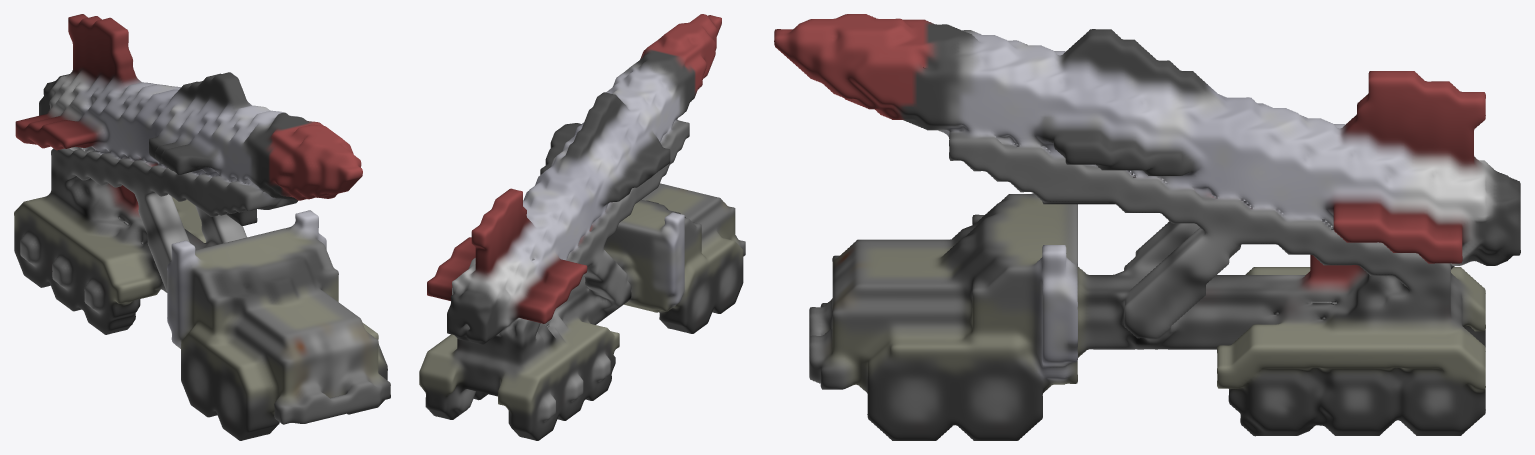
File: v3_rocket_launcher.glb
3 views of the same model, side by side, from view 1: azimuth 30°, elevation 25°; view 2: azimuth 150°, elevation 25°; view 3: azimuth 270°, elevation 25° (orthographic). The views are drawn at different scales.
Visible parts, largest first — view 1: v3_rocket_launcher; view 2: v3_rocket_launcher; view 3: v3_rocket_launcher.
Part boxes in pixels (bbox=[...]): v3_rocket_launcher: bbox=[14, 14, 390, 440]; v3_rocket_launcher: bbox=[419, 14, 745, 440]; v3_rocket_launcher: bbox=[774, 14, 1520, 440].
Bounding box in the file's own units: 1.53 × 2.94 × 5.29.
